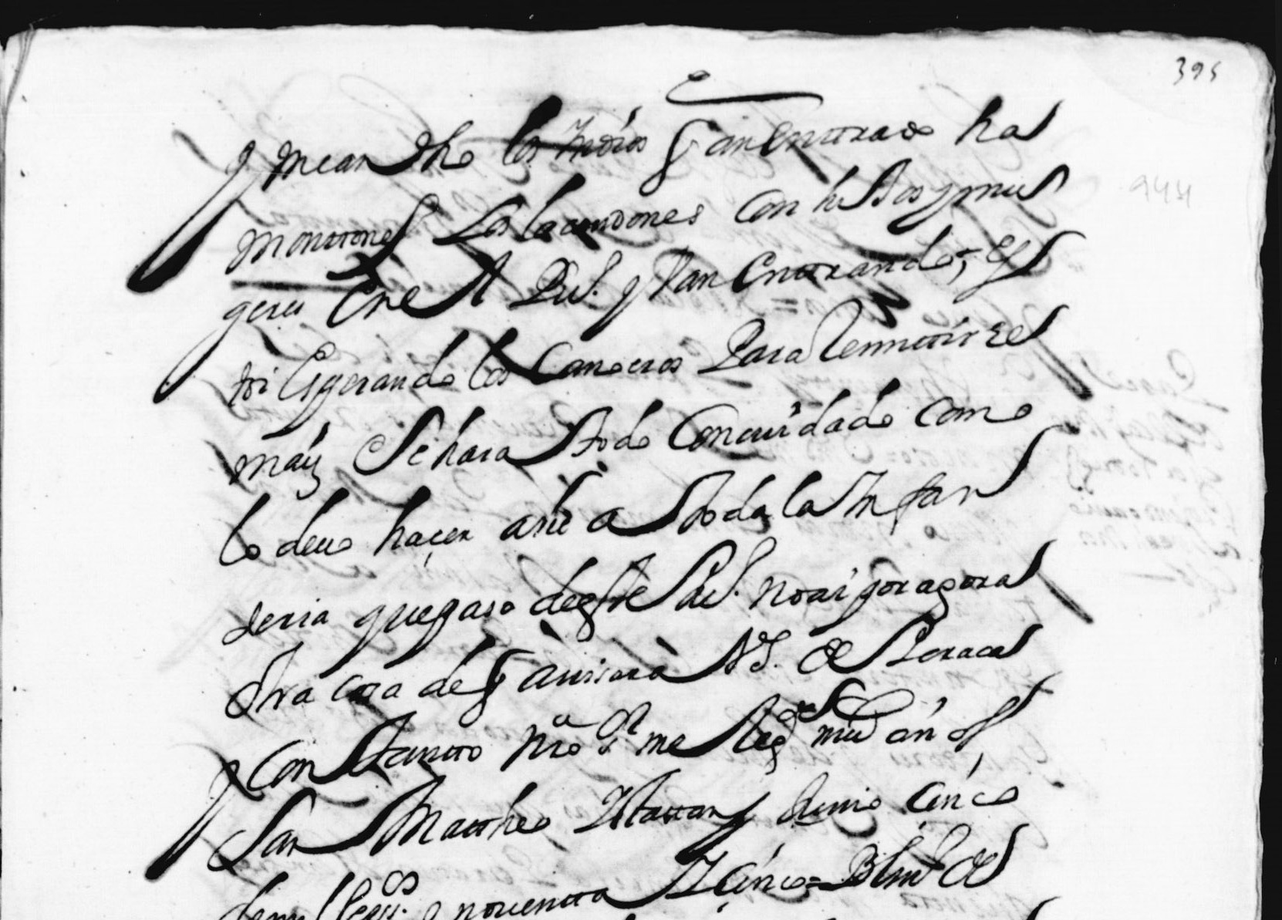lacandon: (518, 172, 704, 242)
